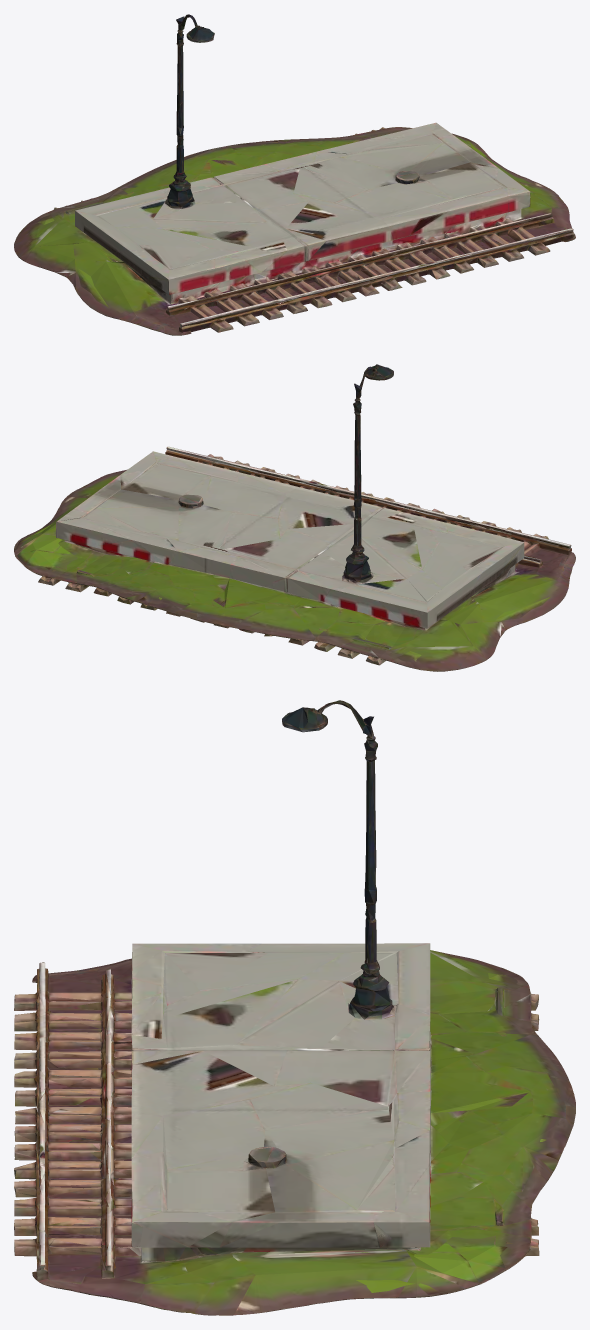
Rendered from station_cap.glb.
3 views of the same model, one above another, from view 1: azimuth 30°, elevation 25°; view 2: azimuth 150°, elevation 25°; view 3: azimuth 270°, elevation 25° (orthographic). The views are drawn at different scales.
Visible parts, largest first — view 1: normalize; view 2: normalize; view 3: normalize.
Boxes of the visible parts, x1,y1,x2,y2 form: normalize: (14, 14, 575, 335); normalize: (14, 364, 575, 671); normalize: (14, 700, 575, 1315).
Bounding box in the file's own units: 1 × 0.4668 × 0.6544.
1 material, 1 textured.
